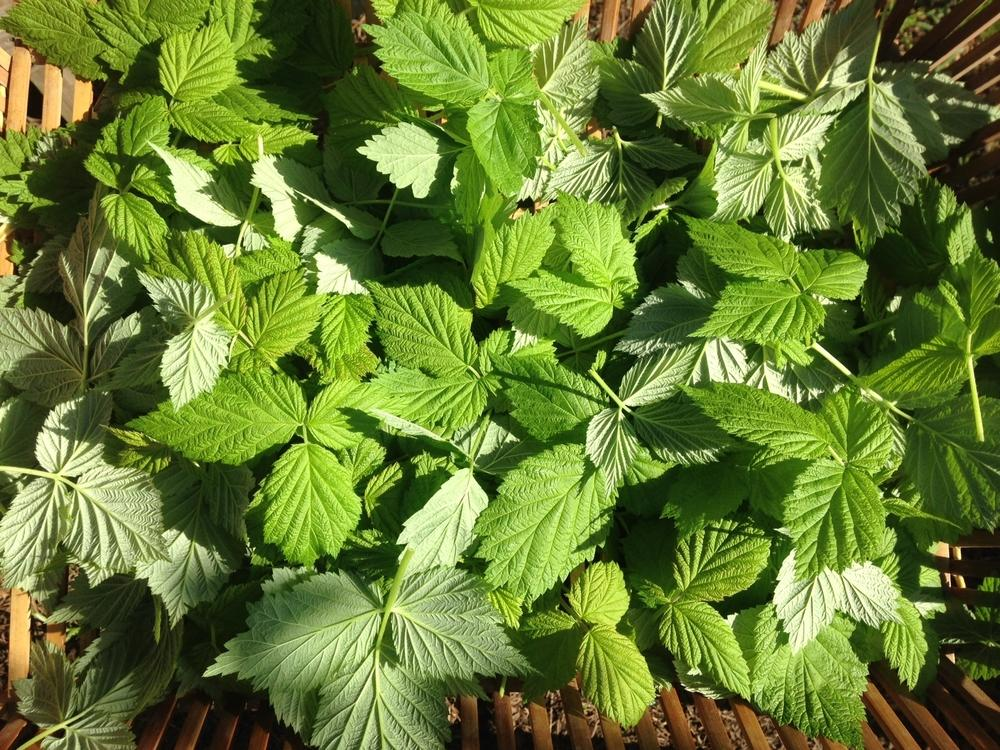Raspberry leaf: (382, 561, 567, 689), (472, 441, 616, 603), (210, 560, 386, 691), (177, 349, 297, 467), (244, 444, 359, 563), (364, 273, 481, 377), (676, 380, 832, 458), (786, 460, 885, 578), (60, 466, 170, 571), (485, 348, 616, 436), (673, 203, 798, 289), (686, 278, 829, 346), (508, 267, 625, 342), (551, 192, 641, 287), (29, 385, 121, 469), (481, 198, 551, 302), (248, 270, 322, 364), (819, 387, 893, 467), (315, 287, 376, 361), (801, 237, 870, 296)
